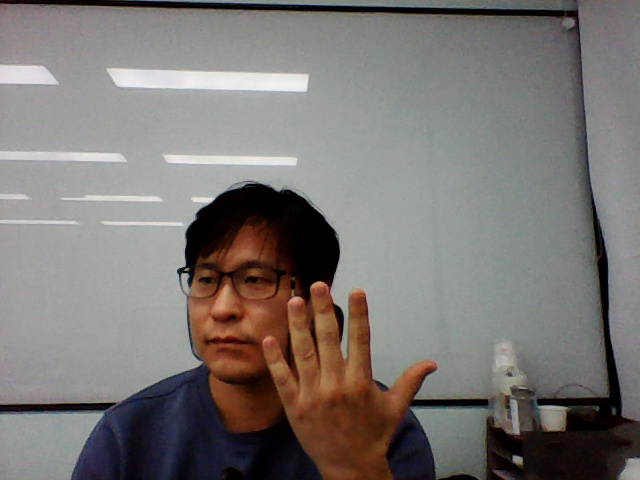five: (247, 274, 441, 454)
